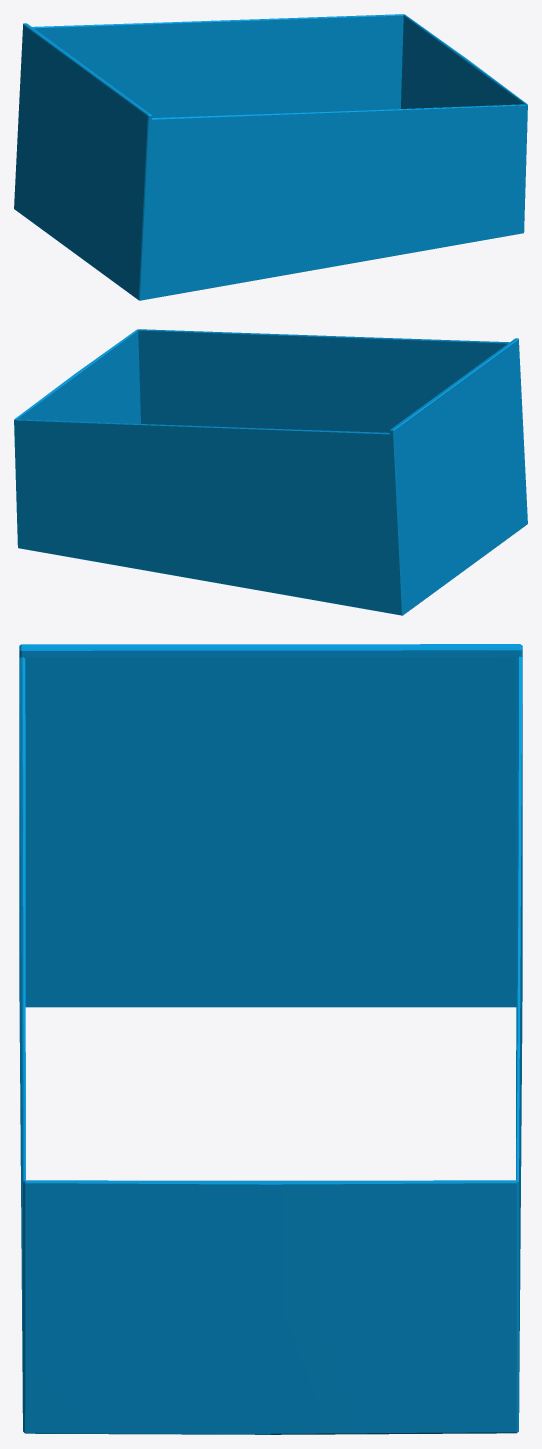
The model's file is Wide_Cabinet_Box.fbx.
3 renders of one model, top to bottom at view 1: azimuth 30°, elevation 25°; view 2: azimuth 150°, elevation 25°; view 3: azimuth 270°, elevation 25°, orthographic. The views are drawn at different scales.
Parts seen in each view (by area): view 1: Wide_Cabinet_Box; view 2: Wide_Cabinet_Box; view 3: Wide_Cabinet_Box.
Boxes of the visible parts, x1,y1,x2,y2 form: Wide_Cabinet_Box: (14,14,527,300); Wide_Cabinet_Box: (14,329,527,615); Wide_Cabinet_Box: (19,644,522,1434).
Bounding box in the file's own units: 135 × 69.37 × 74.9.
